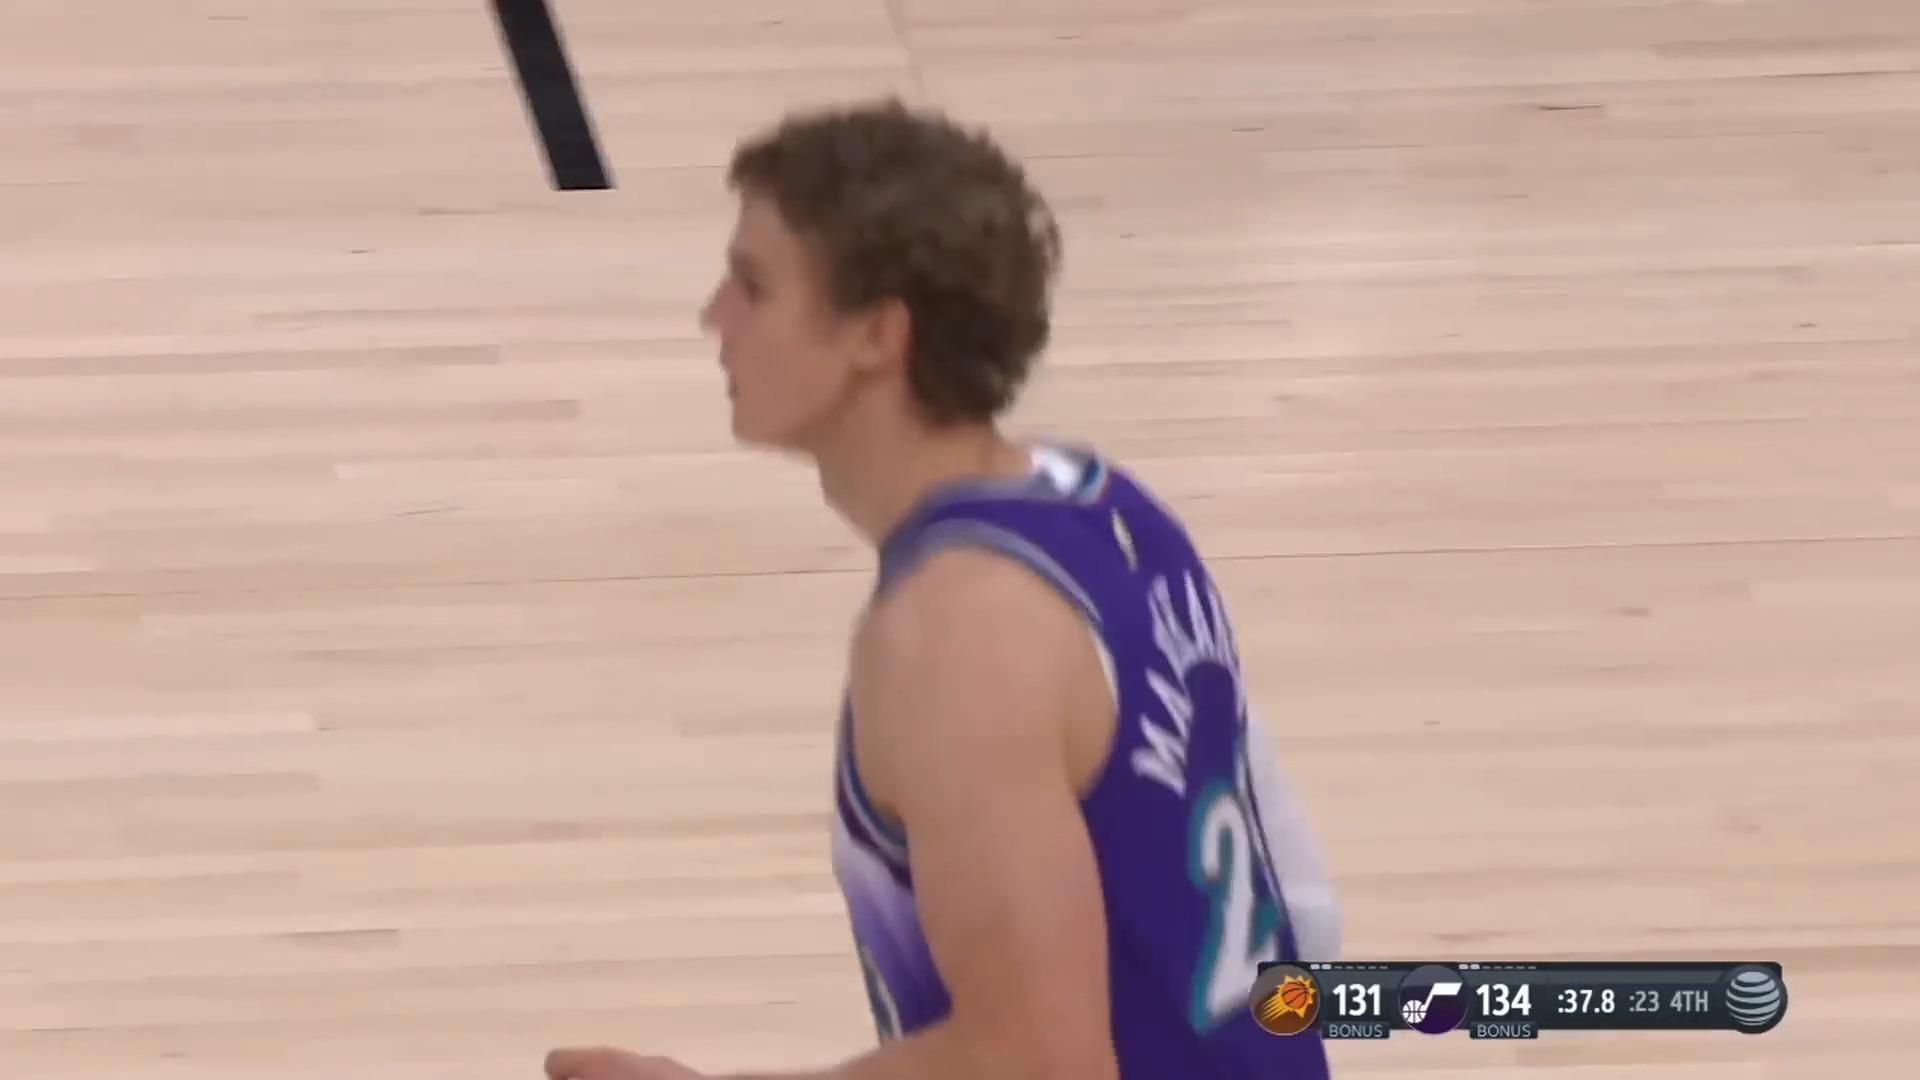basketball-player: (535, 88, 1380, 1080)
